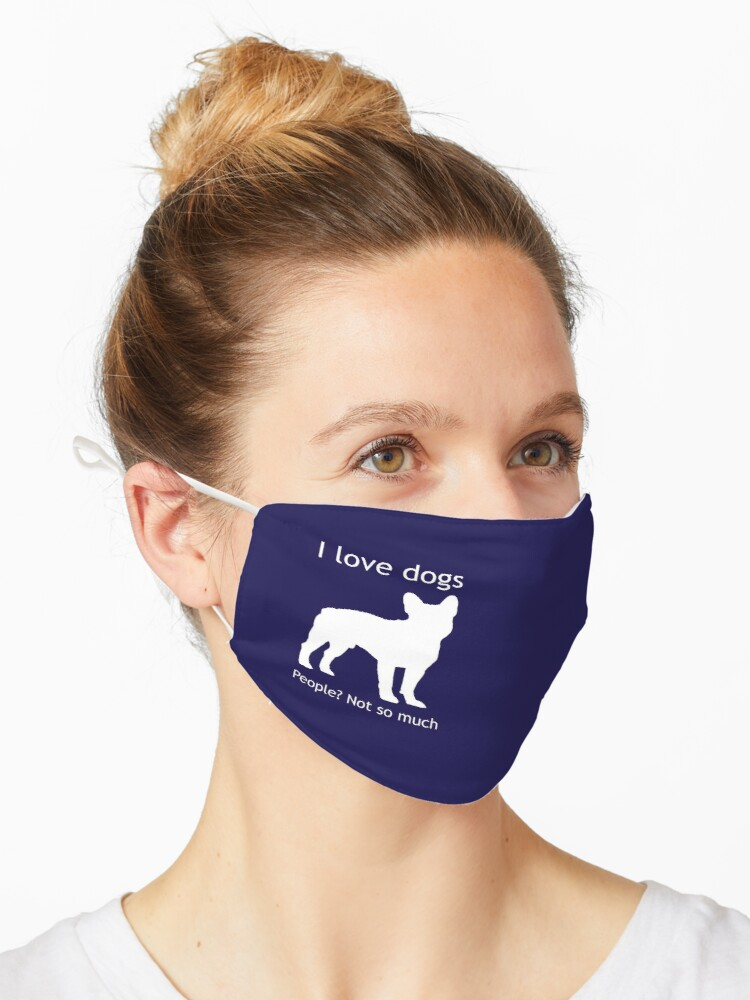with_mask: (260, 344, 583, 767)
